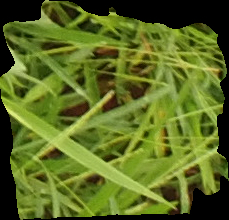grass: (1, 1, 228, 219)
